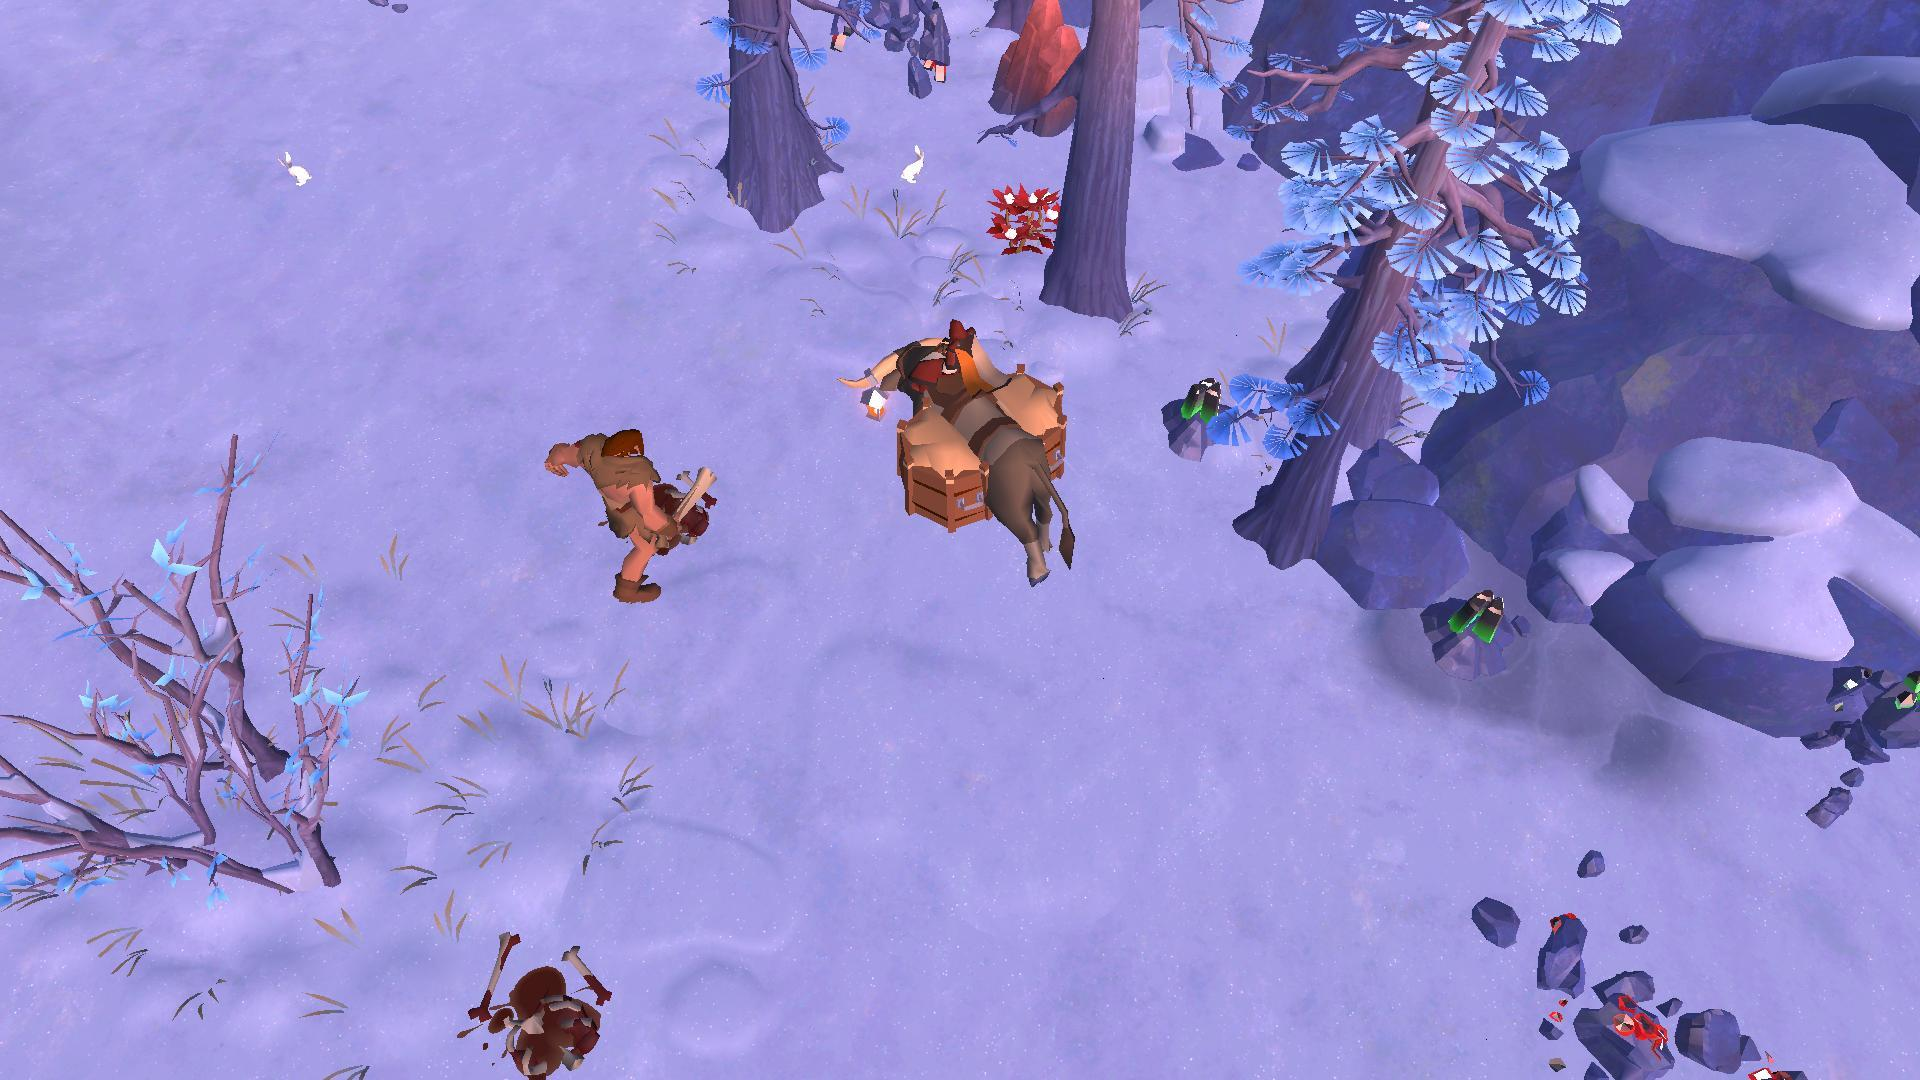enemy_factionKeeper: (551, 433, 712, 605)
fiber_t5: (985, 173, 1069, 266)
ore_t3: (1447, 583, 1511, 645), (1178, 371, 1229, 423)
rock_t5: (998, 0, 1097, 140)
